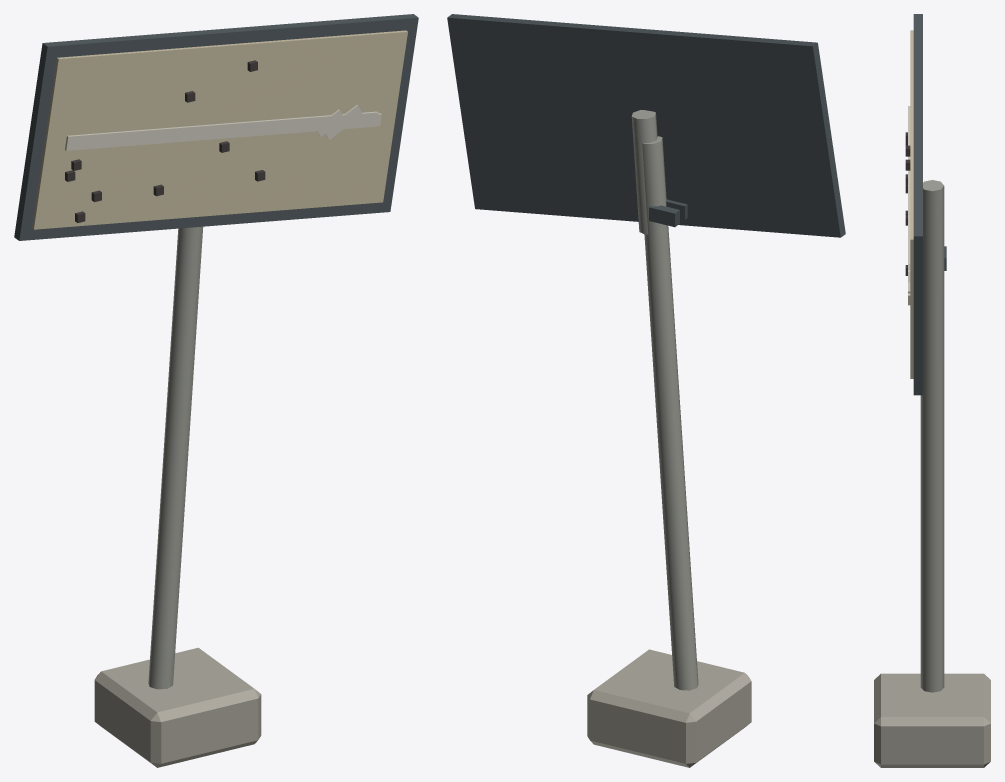
Rendered from waste_road_sign.glb.
3 renders of one model, left to right at view 1: azimuth 30°, elevation 25°; view 2: azimuth 150°, elevation 25°; view 3: azimuth 270°, elevation 25°, orthographic. The views are drawn at different scales.
Parts seen in each view (by area): view 1: paint, blacksteel, concrete, duststeel, signwhite; view 2: blacksteel, concrete, duststeel, duststeel.001; view 3: concrete, duststeel, blacksteel, duststeel.001, paint, signwhite.
Part boxes in pixels (box(x1,y1,x2,y2)): paint: box(32, 30, 407, 229); blacksteel: box(14, 14, 418, 240); concrete: box(94, 647, 261, 767); duststeel: box(148, 226, 203, 689); signwhite: box(65, 111, 378, 150); blacksteel: box(447, 14, 845, 237); concrete: box(587, 649, 751, 767); duststeel: box(642, 136, 698, 690); duststeel.001: box(631, 110, 657, 234); concrete: box(874, 673, 990, 767); duststeel: box(920, 288, 944, 692); blacksteel: box(913, 14, 922, 395); duststeel.001: box(923, 180, 944, 293); paint: box(910, 30, 913, 378); signwhite: box(908, 106, 910, 293).
Bounding box in the file's own units: 1.81 × 3.16 × 0.5.
